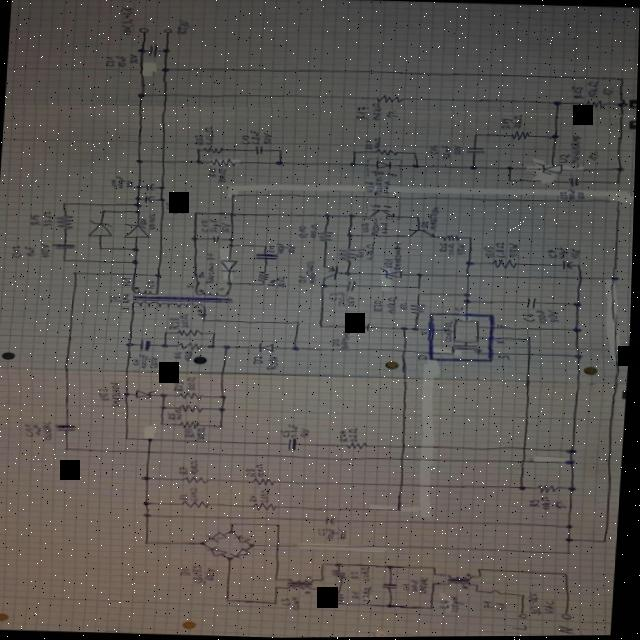capacitor: (254, 252, 280, 260), (146, 43, 159, 58), (55, 423, 79, 431), (287, 437, 300, 451), (525, 296, 539, 309), (464, 147, 486, 155), (55, 242, 76, 250), (140, 339, 153, 351), (346, 280, 358, 292), (382, 581, 400, 589), (561, 261, 575, 271), (252, 145, 265, 155), (568, 177, 580, 187), (326, 516, 339, 525), (144, 195, 156, 203), (145, 182, 155, 190), (211, 235, 221, 242)
crossover: (399, 347, 411, 354), (398, 456, 408, 462), (158, 158, 167, 164), (521, 458, 529, 464), (522, 445, 530, 451), (400, 445, 409, 450), (399, 482, 408, 487), (227, 211, 236, 216), (146, 449, 155, 454), (131, 271, 140, 276), (161, 92, 169, 97), (276, 542, 284, 547), (464, 273, 472, 278), (527, 352, 534, 356), (577, 276, 584, 280)
diode: (83, 218, 115, 237), (121, 222, 152, 239), (232, 545, 254, 560), (379, 267, 403, 280), (207, 531, 231, 543), (219, 258, 239, 272), (135, 388, 159, 399), (258, 341, 277, 354), (208, 546, 230, 557), (352, 321, 372, 332), (234, 534, 255, 543)
junction: (615, 98, 629, 108), (572, 328, 584, 334), (386, 564, 398, 570), (565, 459, 577, 465), (567, 449, 579, 455), (551, 100, 562, 106), (158, 404, 169, 410), (125, 340, 136, 346), (291, 346, 301, 352), (159, 66, 169, 72), (136, 47, 146, 53), (575, 354, 585, 360), (505, 165, 514, 171), (388, 603, 397, 609), (519, 486, 529, 491), (568, 487, 578, 492), (615, 167, 625, 172), (464, 261, 474, 266), (573, 302, 583, 307), (468, 165, 478, 170), (345, 232, 355, 237), (319, 283, 329, 288), (207, 344, 217, 349), (463, 299, 473, 304), (463, 292, 473, 297), (323, 212, 331, 218), (550, 134, 559, 139), (135, 158, 144, 163), (566, 538, 575, 543), (131, 259, 140, 264), (275, 160, 284, 165), (136, 92, 145, 97), (190, 236, 199, 241), (566, 525, 575, 530), (155, 272, 164, 277), (222, 344, 231, 349), (346, 213, 355, 218), (225, 281, 234, 286), (200, 540, 209, 545), (144, 512, 153, 517), (134, 202, 143, 207), (195, 159, 204, 164), (400, 325, 409, 330), (249, 542, 258, 547), (142, 476, 152, 480), (144, 500, 152, 505), (416, 272, 424, 277), (611, 276, 619, 281), (220, 394, 228, 399), (349, 161, 357, 166), (161, 343, 169, 348), (344, 270, 352, 275), (160, 421, 168, 426), (124, 391, 132, 396), (228, 236, 236, 241), (161, 393, 170, 397), (217, 425, 226, 429), (191, 211, 200, 215), (525, 337, 534, 341), (505, 178, 514, 182), (336, 562, 345, 566), (412, 327, 421, 331), (275, 577, 284, 581), (227, 556, 236, 560), (133, 196, 142, 200), (161, 48, 170, 52), (227, 243, 236, 247), (416, 285, 423, 290), (147, 438, 155, 442), (71, 271, 79, 275), (617, 77, 625, 81), (219, 407, 227, 411), (132, 247, 140, 251), (100, 209, 108, 213), (294, 321, 302, 325), (226, 598, 234, 602), (230, 193, 238, 197), (64, 446, 72, 450), (61, 258, 69, 262), (318, 324, 326, 328), (614, 181, 622, 185), (614, 200, 622, 204), (230, 522, 238, 526), (564, 573, 572, 577), (412, 164, 420, 168), (429, 606, 437, 610), (397, 508, 405, 512), (274, 600, 282, 604), (276, 523, 284, 527), (433, 566, 441, 570), (466, 236, 474, 240), (567, 551, 575, 555), (320, 601, 328, 605), (334, 602, 342, 606), (133, 209, 141, 213), (135, 185, 143, 189), (159, 185, 167, 189), (158, 197, 166, 201), (230, 529, 238, 533), (200, 318, 208, 322), (472, 133, 479, 137), (145, 540, 152, 544), (61, 201, 68, 205), (603, 539, 610, 543), (98, 246, 105, 250), (417, 292, 424, 296), (479, 568, 486, 572), (575, 264, 582, 268), (321, 587, 328, 591), (164, 330, 171, 334), (211, 331, 218, 335), (351, 149, 358, 153), (413, 216, 421, 219), (195, 147, 201, 151), (277, 148, 283, 152), (433, 581, 439, 585), (523, 594, 529, 598), (124, 436, 131, 439), (322, 563, 329, 566), (276, 586, 283, 589), (321, 579, 328, 582), (477, 583, 484, 586), (478, 576, 485, 579), (411, 152, 417, 155), (263, 245, 269, 248), (260, 282, 266, 285), (434, 572, 440, 575), (476, 589, 482, 592)
resistor: (337, 245, 358, 263), (55, 213, 76, 230), (491, 258, 519, 269), (178, 403, 205, 414), (579, 99, 605, 110), (375, 94, 403, 104), (535, 484, 561, 494), (183, 475, 211, 484), (183, 499, 211, 508), (179, 341, 207, 350), (179, 419, 204, 429), (211, 157, 237, 166), (254, 502, 280, 511), (410, 302, 428, 315), (179, 391, 204, 400), (345, 441, 370, 450), (318, 230, 335, 243), (510, 130, 530, 141), (254, 477, 278, 486), (332, 568, 351, 579), (177, 328, 203, 336), (331, 590, 348, 602), (202, 146, 225, 154), (373, 149, 399, 156), (256, 270, 271, 280), (442, 234, 460, 242)
terminal: (562, 614, 574, 621), (162, 27, 172, 34), (137, 27, 147, 33), (520, 613, 530, 619)
text: (568, 135, 583, 169), (204, 252, 218, 284), (110, 382, 126, 406), (304, 260, 319, 284), (193, 564, 210, 584), (393, 241, 404, 270), (428, 206, 441, 229), (441, 321, 455, 342), (42, 420, 56, 440), (584, 81, 600, 98), (452, 596, 468, 613), (119, 6, 134, 24), (203, 125, 216, 145), (370, 103, 384, 121), (266, 355, 282, 370), (528, 593, 543, 609), (354, 105, 370, 120), (386, 296, 399, 314), (174, 18, 189, 33), (535, 310, 550, 325), (38, 242, 52, 258), (507, 242, 521, 258), (495, 242, 509, 258), (179, 313, 193, 328), (139, 353, 153, 368), (558, 625, 577, 636), (373, 176, 384, 195), (363, 586, 376, 602), (190, 459, 203, 475), (341, 331, 352, 349), (365, 242, 376, 260), (570, 85, 584, 99), (544, 599, 558, 613), (99, 386, 113, 400), (186, 376, 199, 391), (249, 129, 262, 144), (547, 310, 562, 323), (292, 596, 305, 611), (308, 222, 320, 238), (421, 577, 432, 594), (261, 488, 274, 502), (556, 247, 571, 259), (191, 486, 203, 501), (216, 168, 228, 183), (482, 246, 497, 258), (43, 210, 54, 226), (370, 219, 381, 235), (148, 213, 158, 230), (24, 423, 37, 436), (11, 244, 24, 257), (297, 225, 310, 238), (500, 117, 513, 130), (206, 567, 218, 581), (361, 567, 373, 581), (29, 213, 43, 225), (440, 144, 452, 158), (114, 55, 128, 67), (328, 527, 340, 541), (542, 497, 554, 511), (119, 24, 133, 36), (337, 291, 348, 306), (512, 114, 523, 129), (169, 316, 182, 328), (339, 429, 351, 442), (289, 424, 301, 437), (209, 219, 221, 232), (363, 181, 376, 193), (349, 427, 360, 441), (24, 245, 38, 256), (257, 463, 268, 477), (385, 109, 400, 119), (373, 300, 385, 312), (513, 623, 531, 631), (193, 133, 205, 145), (600, 87, 613, 98), (276, 242, 289, 253), (277, 275, 288, 288), (523, 312, 537, 322), (253, 354, 267, 364), (198, 426, 208, 440), (556, 499, 570, 509), (184, 428, 199, 437), (34, 423, 45, 435), (104, 55, 116, 66), (588, 150, 600, 161), (346, 295, 357, 307), (339, 528, 351, 539), (150, 356, 161, 368), (379, 222, 390, 234), (427, 144, 440, 154), (569, 249, 582, 259), (246, 467, 259, 477), (300, 427, 313, 437), (412, 579, 422, 592), (116, 175, 126, 188), (181, 567, 195, 576), (172, 199, 181, 213), (262, 131, 272, 143), (174, 381, 186, 391), (497, 601, 509, 611), (452, 144, 462, 156), (568, 188, 578, 200), (120, 276, 132, 286), (200, 219, 210, 231), (206, 167, 218, 177), (383, 258, 395, 268), (456, 243, 466, 255), (558, 153, 570, 163), (184, 349, 194, 361), (441, 599, 454, 608), (350, 570, 363, 579), (179, 465, 192, 474), (530, 498, 543, 507), (296, 275, 309, 284), (109, 294, 123, 302), (240, 134, 250, 145), (176, 408, 186, 419), (356, 247, 366, 258), (547, 250, 559, 259), (353, 590, 365, 599), (484, 600, 497, 608), (383, 181, 391, 194), (128, 53, 138, 63), (221, 223, 231, 233), (122, 293, 132, 303), (439, 242, 449, 252), (360, 222, 370, 232), (498, 354, 512, 361), (448, 243, 456, 255), (373, 137, 381, 149), (559, 191, 569, 200), (329, 291, 339, 300), (288, 243, 297, 253), (400, 301, 410, 310), (283, 598, 294, 606), (318, 528, 329, 536), (180, 493, 192, 500), (364, 140, 373, 149), (332, 338, 341, 347), (268, 278, 278, 286), (576, 191, 586, 199), (282, 429, 292, 437), (147, 280, 157, 288), (403, 583, 413, 591), (174, 351, 184, 359), (495, 339, 508, 345), (165, 201, 173, 210), (197, 311, 209, 317), (268, 244, 277, 252), (133, 357, 142, 365), (420, 221, 430, 228), (250, 494, 260, 501), (181, 205, 189, 213), (140, 217, 148, 225), (110, 179, 118, 187), (126, 180, 134, 188), (198, 271, 207, 278), (169, 412, 178, 419), (417, 355, 429, 360), (455, 306, 465, 311), (420, 330, 430, 335), (497, 324, 507, 328), (186, 283, 196, 287), (121, 306, 131, 310), (217, 286, 227, 290)
thyristor: (536, 162, 563, 175)
transformer: (129, 285, 236, 314), (287, 574, 319, 595), (445, 572, 476, 589)
transistor: (320, 264, 341, 280), (407, 228, 438, 238)
